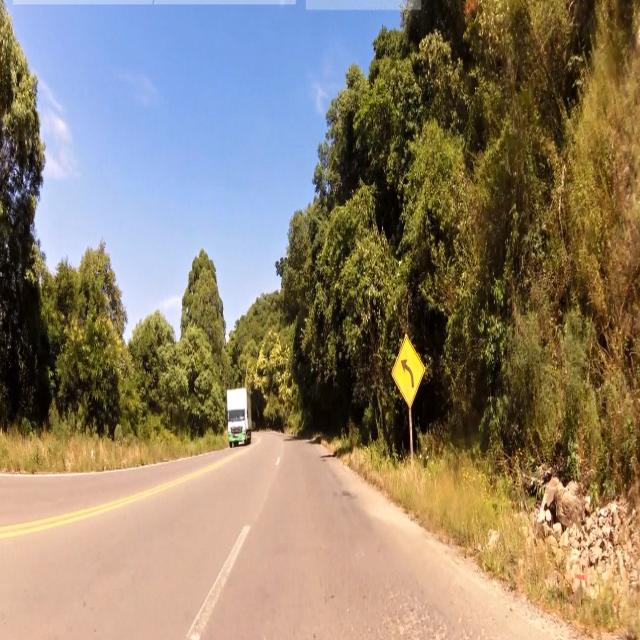A-2a: (390, 338, 424, 403)
